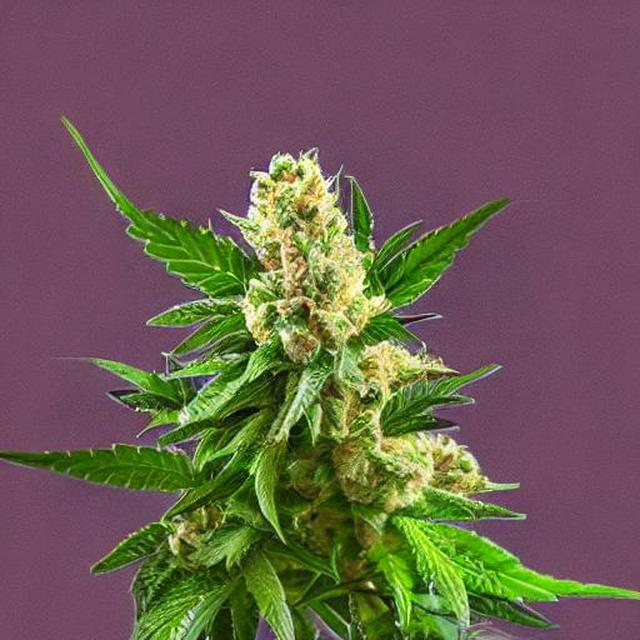Marijuana Plant: (0, 0, 635, 639)
